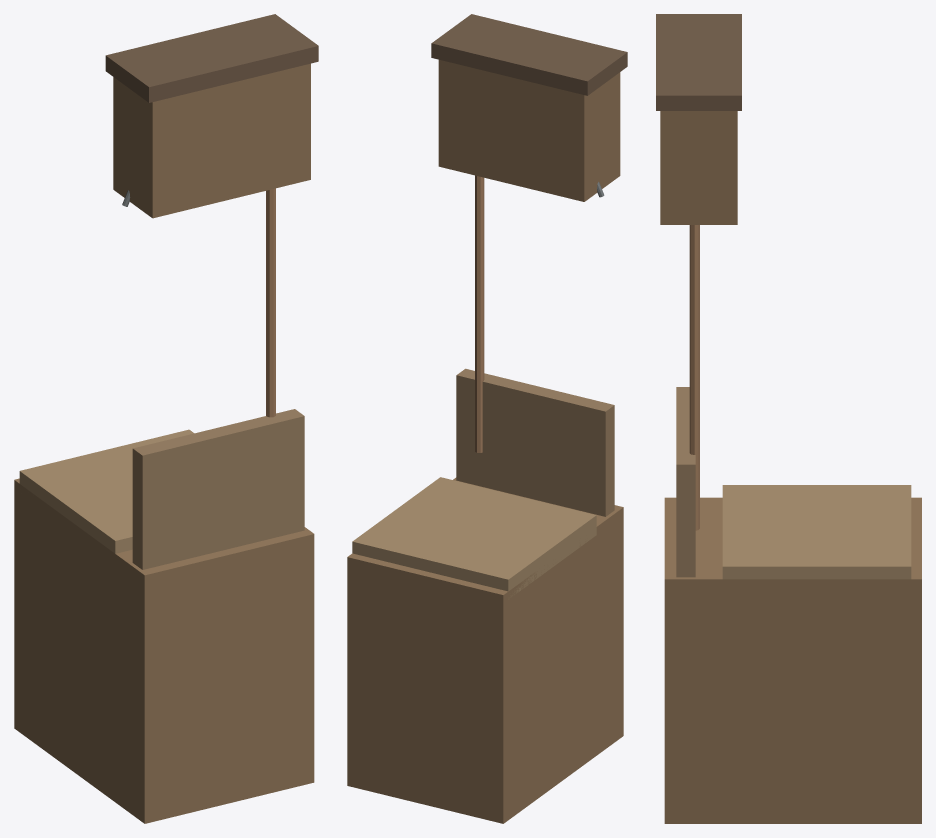
Rendered from abort_holzsitz.glb.
3 renders of one model, left to right at view 1: azimuth 30°, elevation 25°; view 2: azimuth 150°, elevation 25°; view 3: azimuth 270°, elevation 25°, orthographic. The views are drawn at different scales.
Visible parts, largest first — view 1: abort_holzsitz_n1; view 2: abort_holzsitz_n1; view 3: abort_holzsitz_n1.
Part boxes in pixels (bbox=[...]): abort_holzsitz_n1: bbox=[14, 14, 318, 823]; abort_holzsitz_n1: bbox=[347, 14, 627, 823]; abort_holzsitz_n1: bbox=[656, 14, 921, 823].
Bounding box in the file's own units: 0.4514 × 1.88 × 0.62.
